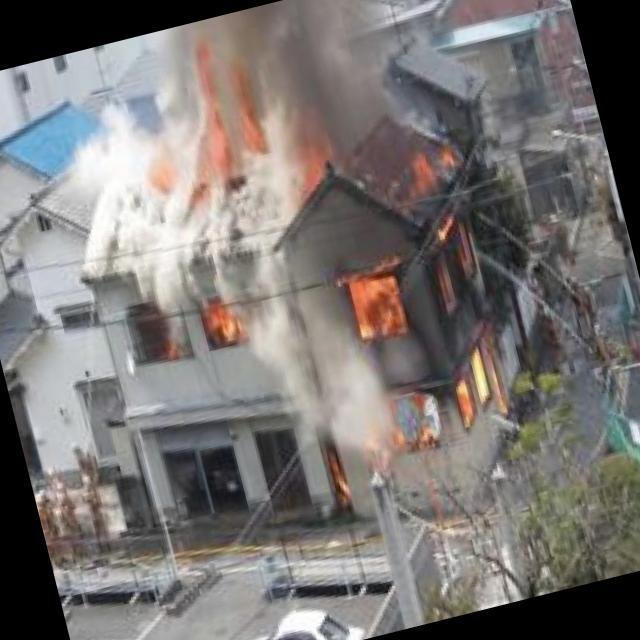Fire: (310, 110, 523, 463), (183, 51, 276, 185), (196, 299, 245, 356)
